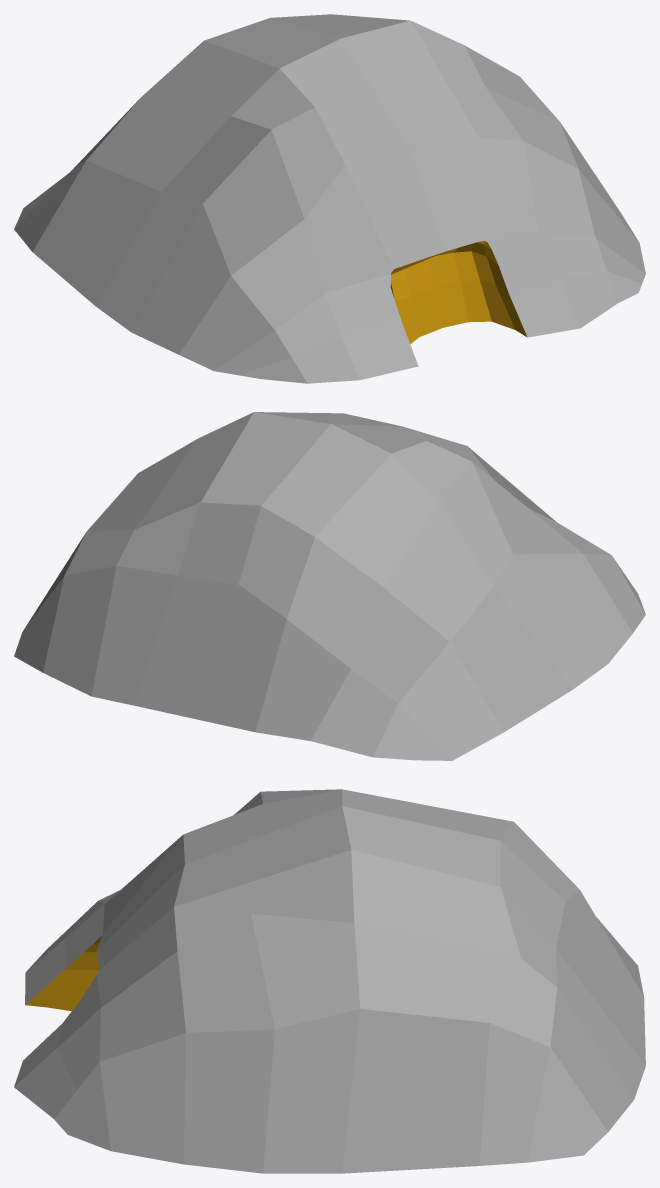
File: Big Rock 4.fbx
3 renders of one model, top to bottom at view 1: azimuth 30°, elevation 25°; view 2: azimuth 150°, elevation 25°; view 3: azimuth 270°, elevation 25°, orthographic. The views are drawn at different scales.
Visible parts, largest first — view 1: Big Rock 4; view 2: Big Rock 4; view 3: Big Rock 4.
Boxes of the visible parts, x1,y1,x2,y2 form: Big Rock 4: (14, 14, 645, 383); Big Rock 4: (14, 412, 645, 760); Big Rock 4: (14, 789, 645, 1173).
Bounding box in the file's own units: 1200 × 494 × 1196.
